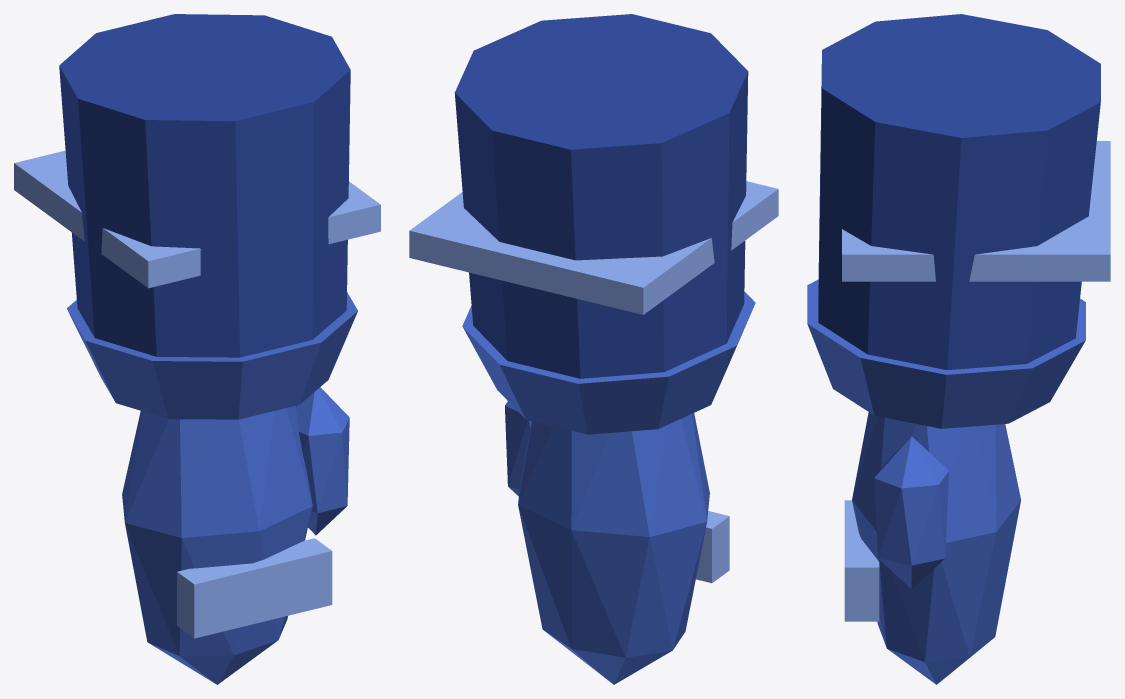
Rendered from gear_mithril_gauntlets_arm_r.glb.
The picture shows the model from 3 angles, left to right: view 1: azimuth 30°, elevation 25°; view 2: azimuth 150°, elevation 25°; view 3: azimuth 270°, elevation 25°; orthographic projection.
Parts seen in each view (by area): view 1: gear_mithril_gauntlets_arm_r; view 2: gear_mithril_gauntlets_arm_r; view 3: gear_mithril_gauntlets_arm_r.
Boxes of the visible parts, x1,y1,x2,y2 form: gear_mithril_gauntlets_arm_r: (14, 14, 380, 684); gear_mithril_gauntlets_arm_r: (409, 14, 778, 684); gear_mithril_gauntlets_arm_r: (807, 14, 1110, 684).
Size of the model in its own units: 0.118 by 0.2731 by 0.122.
